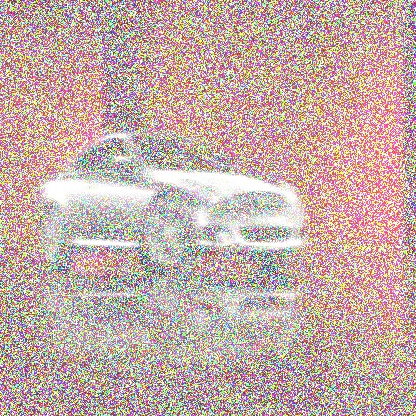Vehicle: (36, 129, 314, 283)
